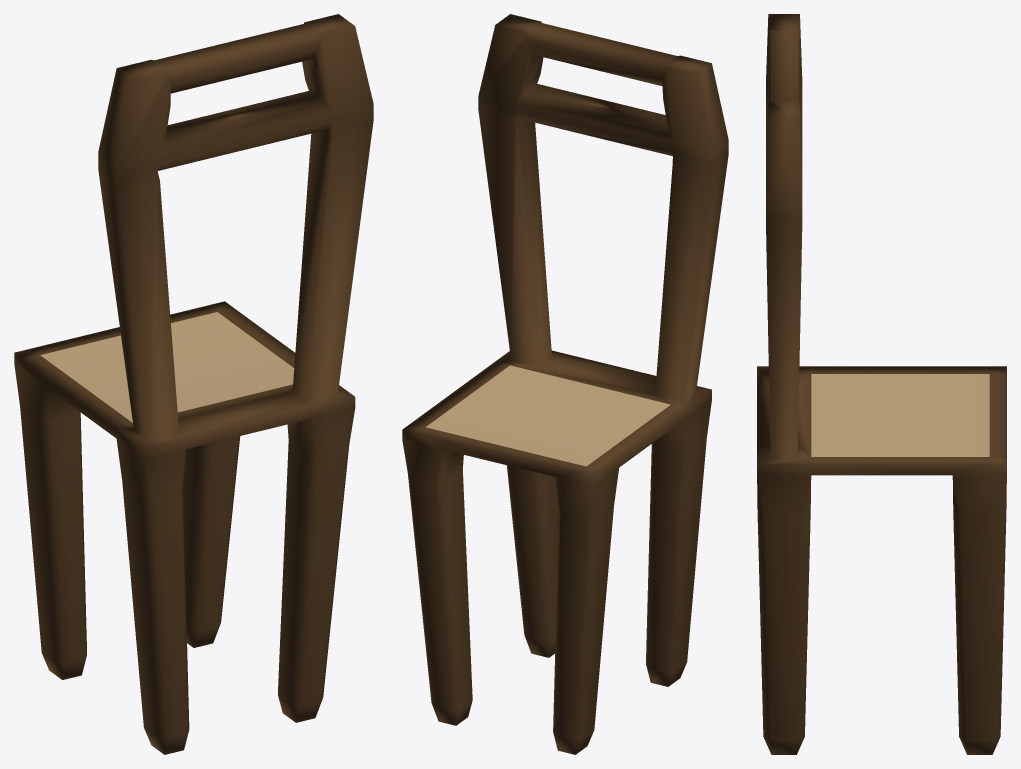
File: chaise.fbx
The picture shows the model from 3 angles, left to right: view 1: azimuth 30°, elevation 25°; view 2: azimuth 150°, elevation 25°; view 3: azimuth 270°, elevation 25°; orthographic projection. The views are drawn at different scales.
Parts seen in each view (by area): view 1: Cube.002; view 2: Cube.002; view 3: Cube.002.
Part boxes in pixels (x1,y1,x2,y2): Cube.002: (14,14,373,754); Cube.002: (402,14,728,754); Cube.002: (757,14,1006,754).
Size of the model in its own units: 507 by 1293 by 447.
